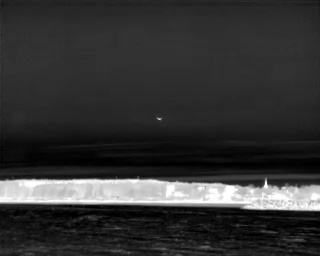BIRD: (155, 114, 164, 124)
